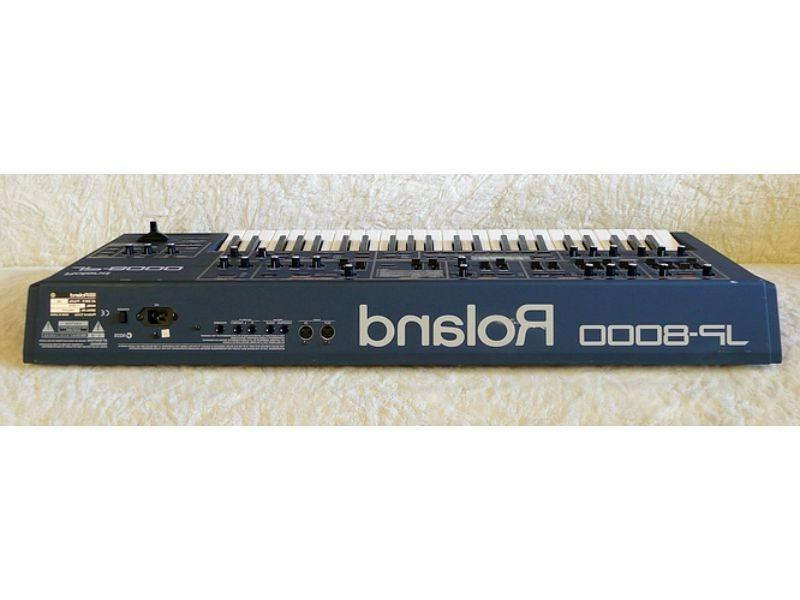synthesizer: (15, 215, 794, 381)
